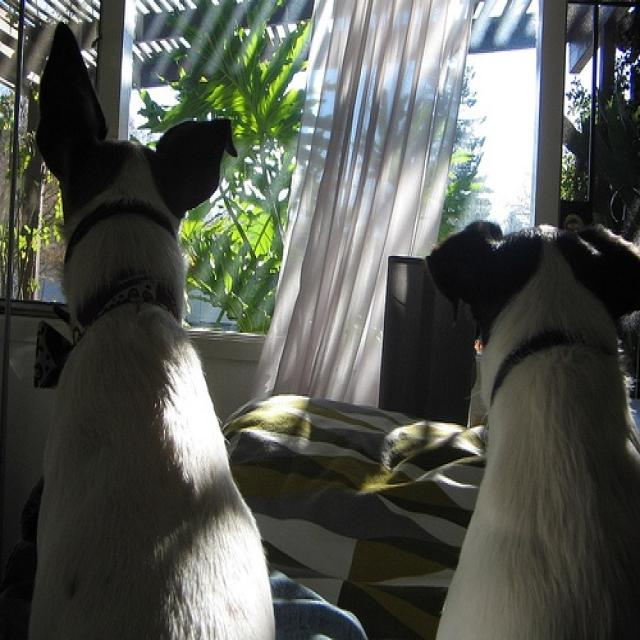dog: (28, 19, 277, 636), (424, 217, 638, 638)
